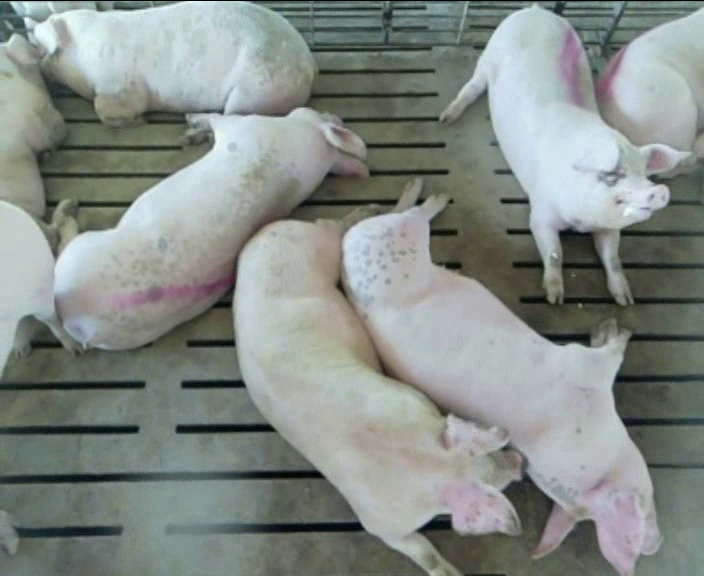pig: (343, 179, 661, 573), (233, 205, 520, 573), (54, 108, 367, 349), (440, 7, 692, 303), (31, 2, 315, 125), (596, 7, 703, 178), (0, 34, 76, 254)
